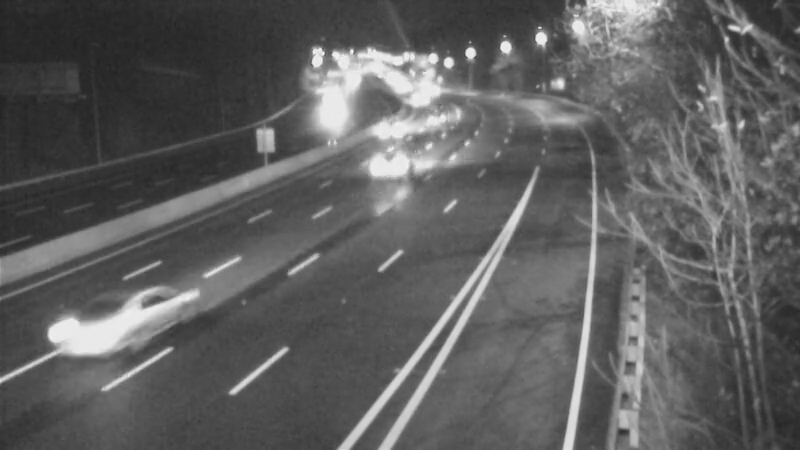vehicle: (39, 267, 149, 377), (351, 125, 431, 205), (390, 73, 440, 123), (410, 97, 460, 147), (369, 103, 419, 153), (306, 78, 356, 128)
